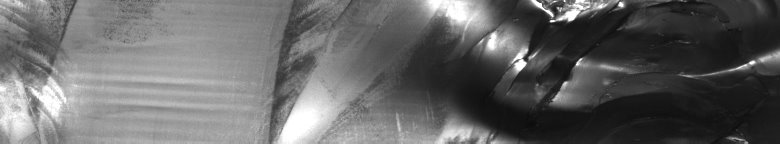ke: (397, 4, 776, 136)
